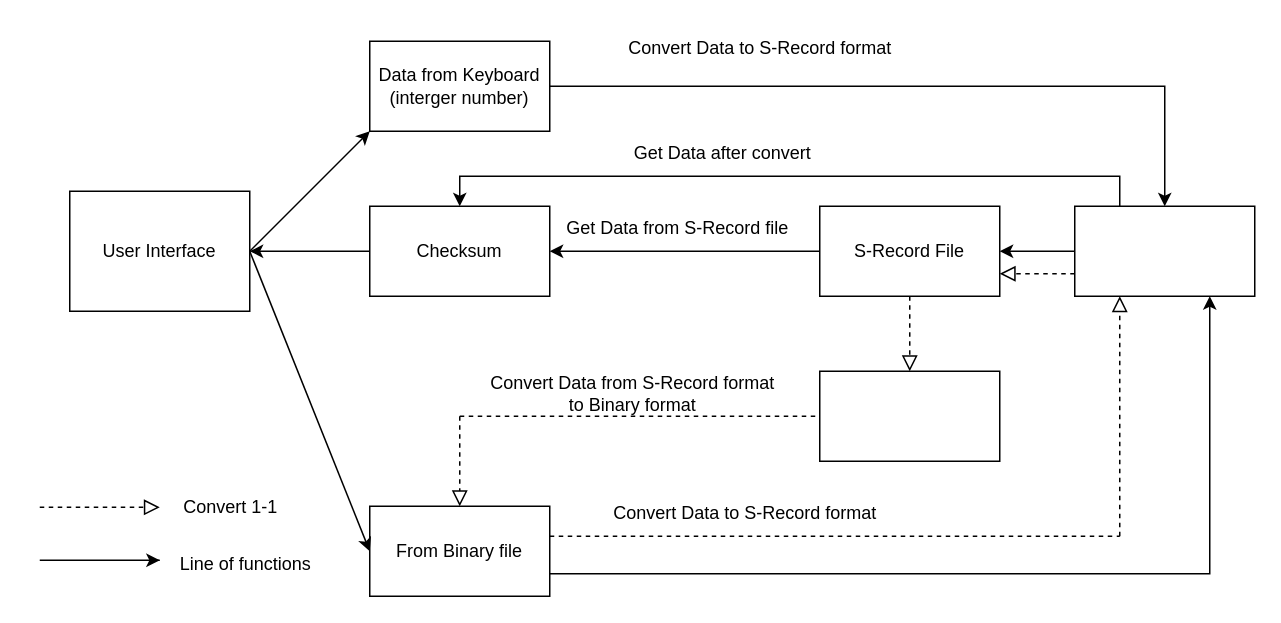
Image size: 1281x623. Some labels were removed from this diagram. Each missing label, with the box of its shape:
Binary converter: (818, 370, 1000, 461)
S-Record Converter: (1073, 205, 1255, 296)
